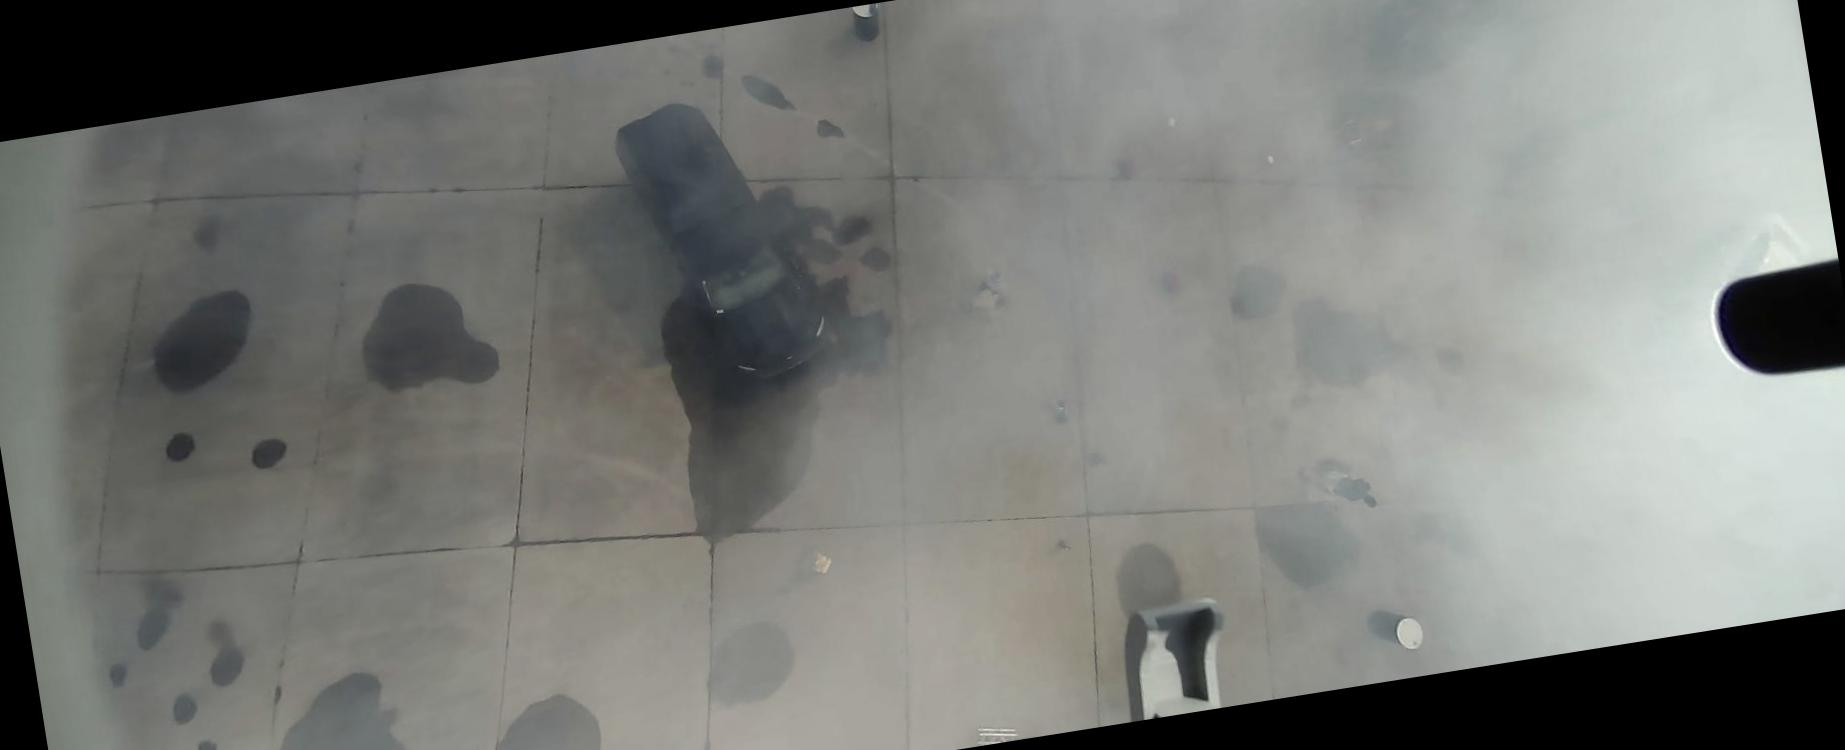vehicle: (608, 86, 834, 394), (1674, 209, 1820, 354), (1352, 0, 1518, 83)
